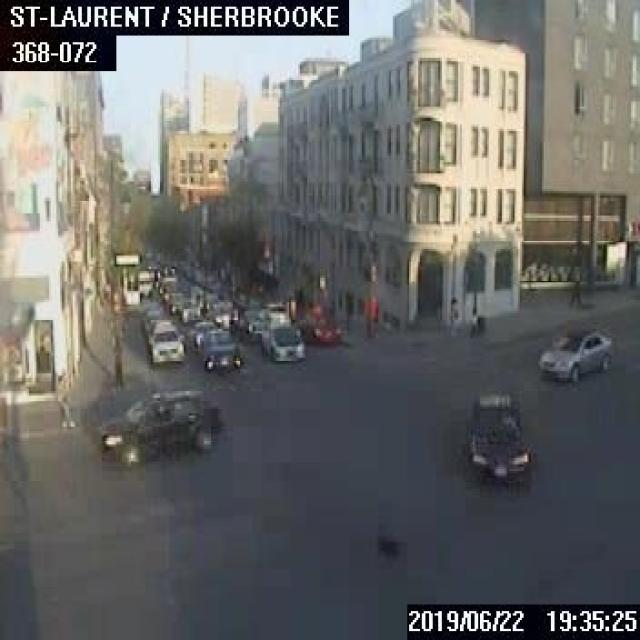pedestrian: (56, 391, 74, 426), (567, 264, 581, 306)
vehicle: (96, 386, 220, 466), (464, 389, 527, 482), (536, 331, 611, 380), (200, 328, 241, 370), (260, 322, 304, 360), (146, 322, 183, 362), (296, 314, 338, 342), (186, 319, 216, 352), (259, 301, 290, 327), (209, 300, 233, 324), (137, 269, 152, 297), (180, 301, 199, 321), (167, 290, 184, 312)
